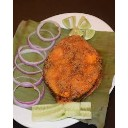seerfish: (45, 37, 103, 97)
